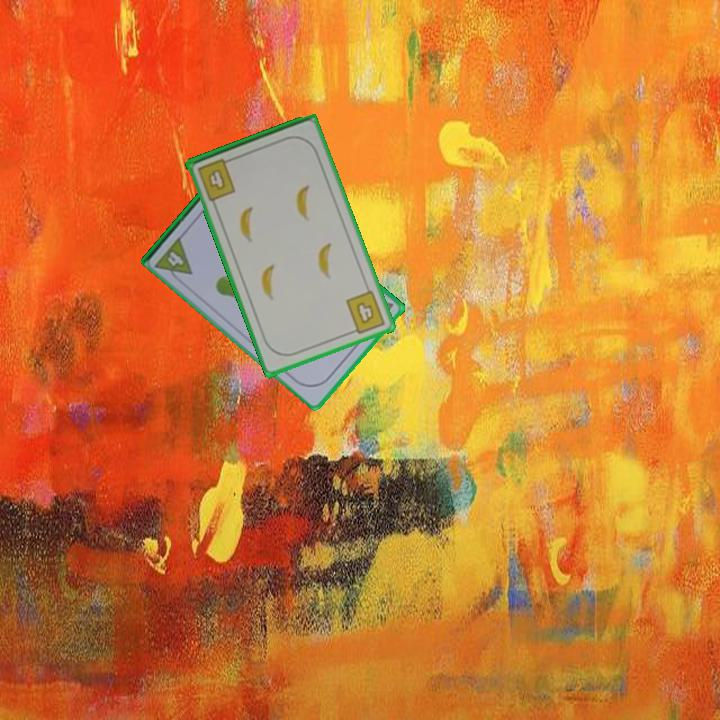4b: (342, 287, 388, 337), (194, 155, 239, 204)
4p: (152, 232, 195, 287)
